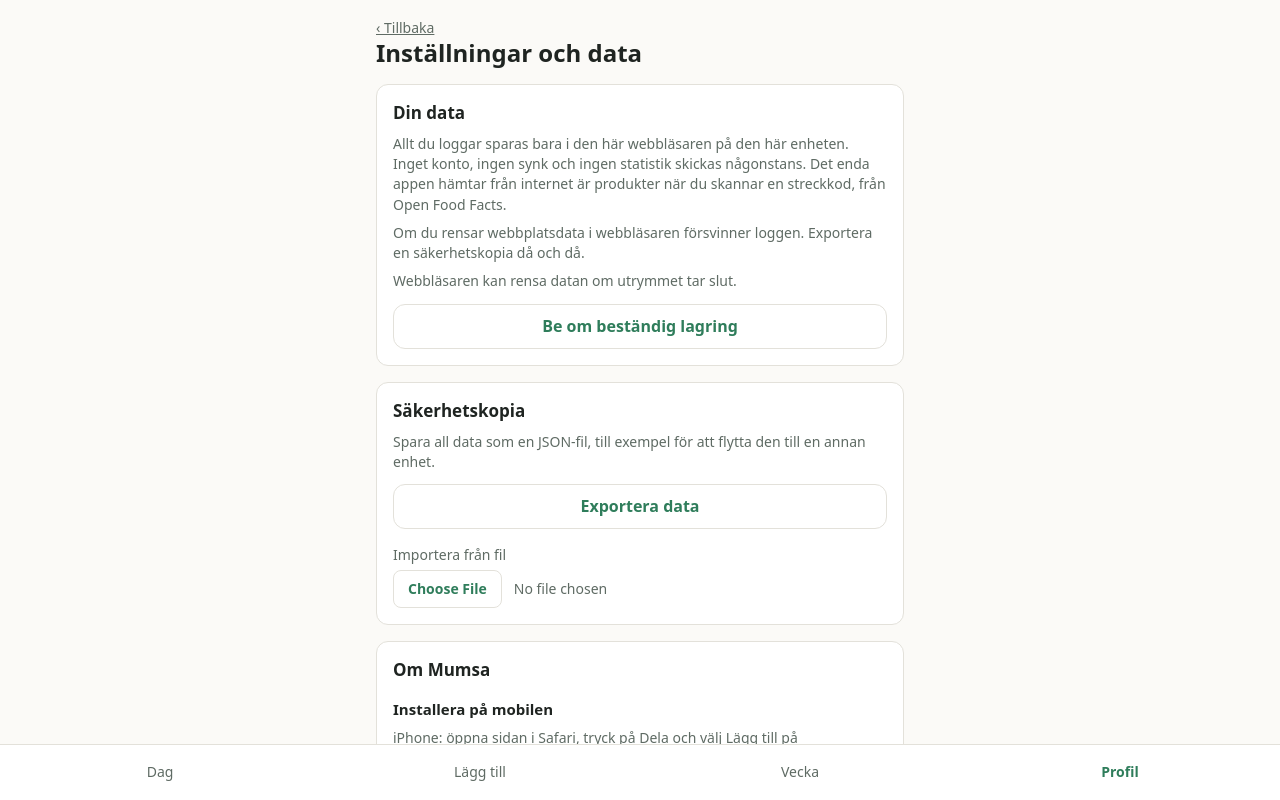
Test: exporterar all data som en JSON-fil
Click the button "Exportera data".
click(640, 507)  # box [393,484,887,529]
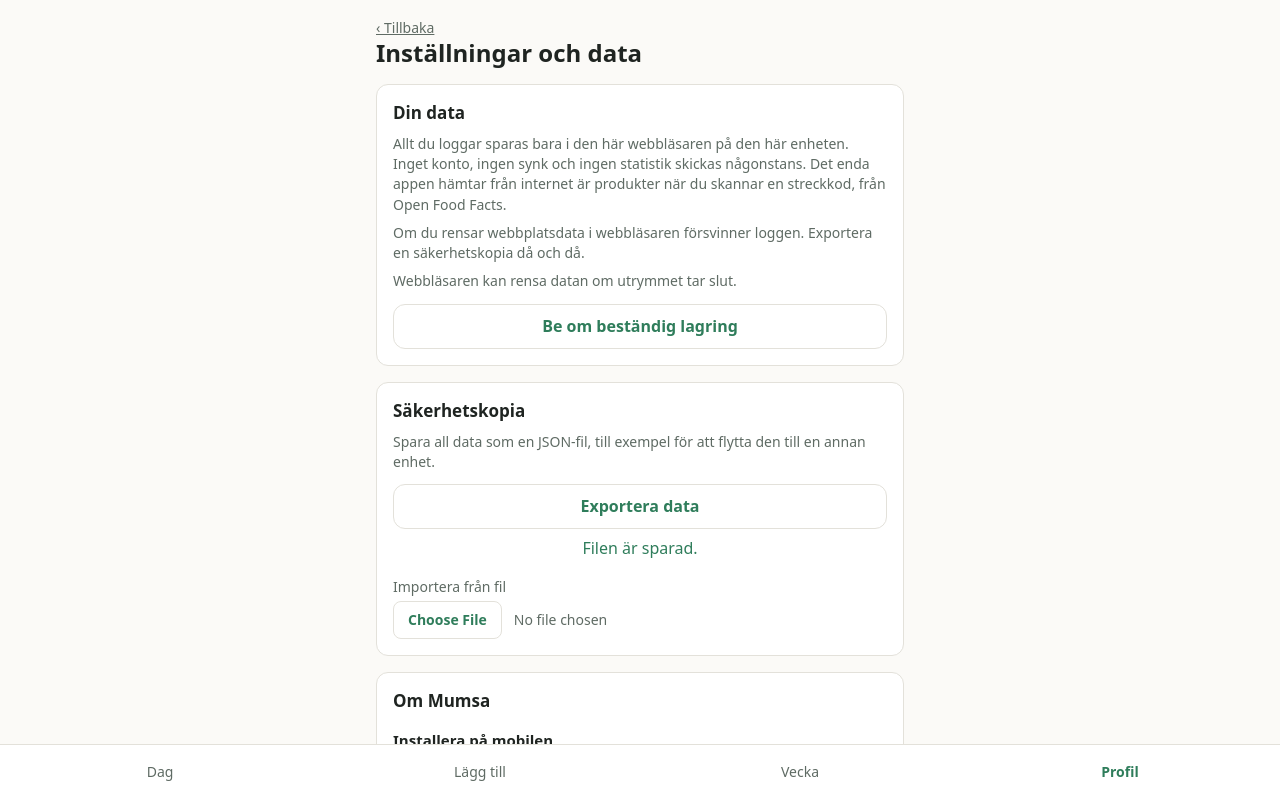
Result: the text "Filen är sparad." is shown at [582,537,698,559]
